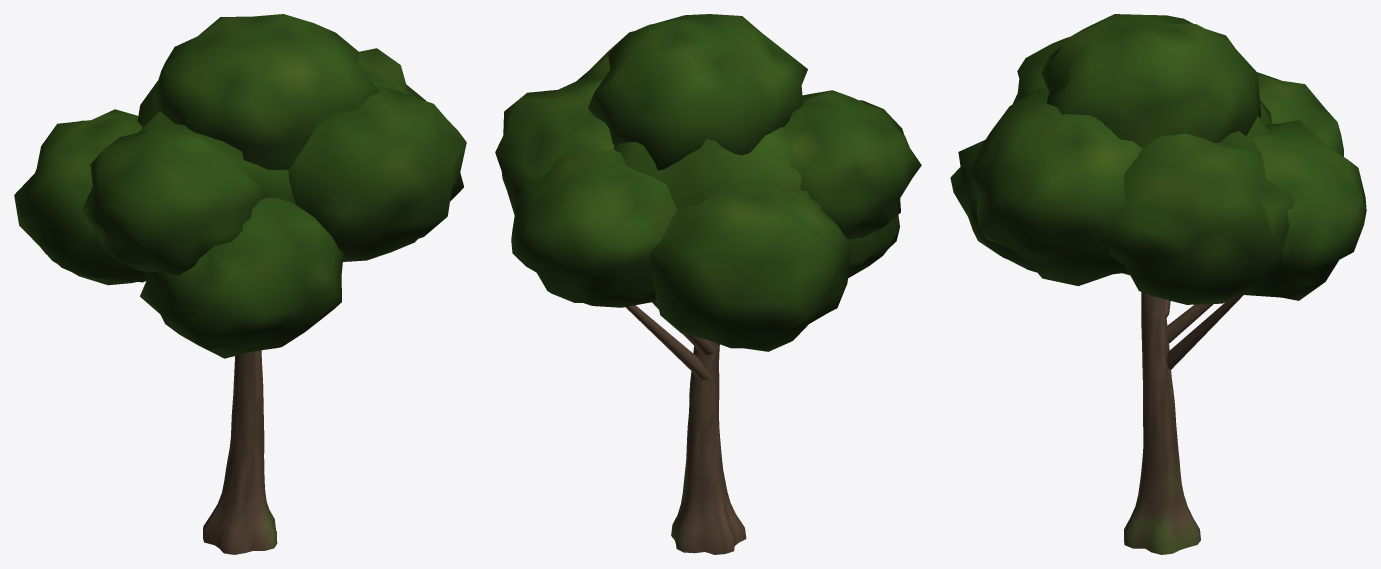
Rendered from Oak.glb.
The picture shows the model from 3 angles, left to right: view 1: azimuth 30°, elevation 25°; view 2: azimuth 150°, elevation 25°; view 3: azimuth 270°, elevation 25°; orthographic projection. The views are drawn at different scales.
Visible parts, largest first — view 1: Leaves, Trunk; view 2: Leaves, Trunk; view 3: Leaves, Trunk.
Part boxes in pixels (bbox=[...]): Leaves: bbox=[14, 14, 466, 358]; Trunk: bbox=[203, 350, 277, 554]; Leaves: bbox=[495, 14, 921, 351]; Trunk: bbox=[625, 300, 746, 554]; Leaves: bbox=[950, 14, 1366, 304]; Trunk: bbox=[1124, 292, 1243, 554].
Size of the model in its own units: 6.82 by 9.26 by 6.68.
